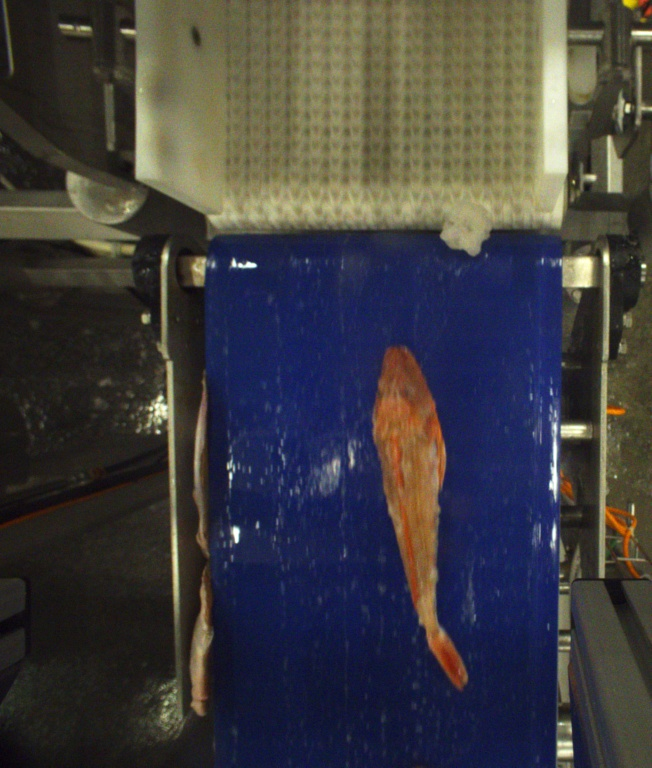GUU: (373, 344, 469, 688)
